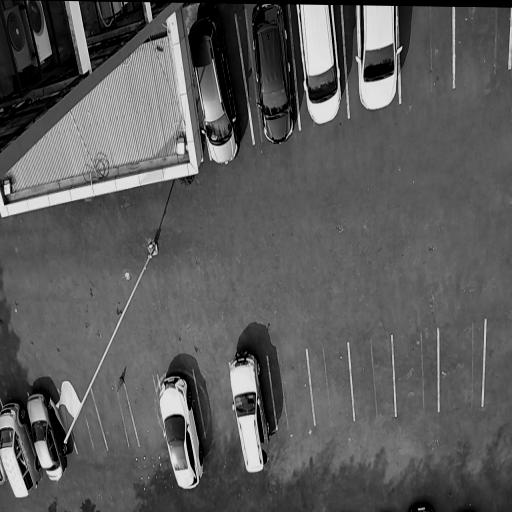Car: (185, 11, 245, 172), (246, 4, 298, 154), (225, 346, 276, 479), (156, 372, 209, 497), (294, 5, 346, 132), (0, 400, 46, 508), (23, 389, 73, 488), (356, 5, 398, 119)
Space Available: (396, 6, 453, 105), (455, 7, 511, 89), (439, 321, 484, 413), (393, 329, 439, 418), (349, 336, 395, 424), (307, 344, 354, 427), (268, 351, 315, 431), (91, 387, 140, 451), (194, 366, 237, 438), (124, 380, 165, 449), (483, 320, 512, 408), (72, 390, 107, 456)
